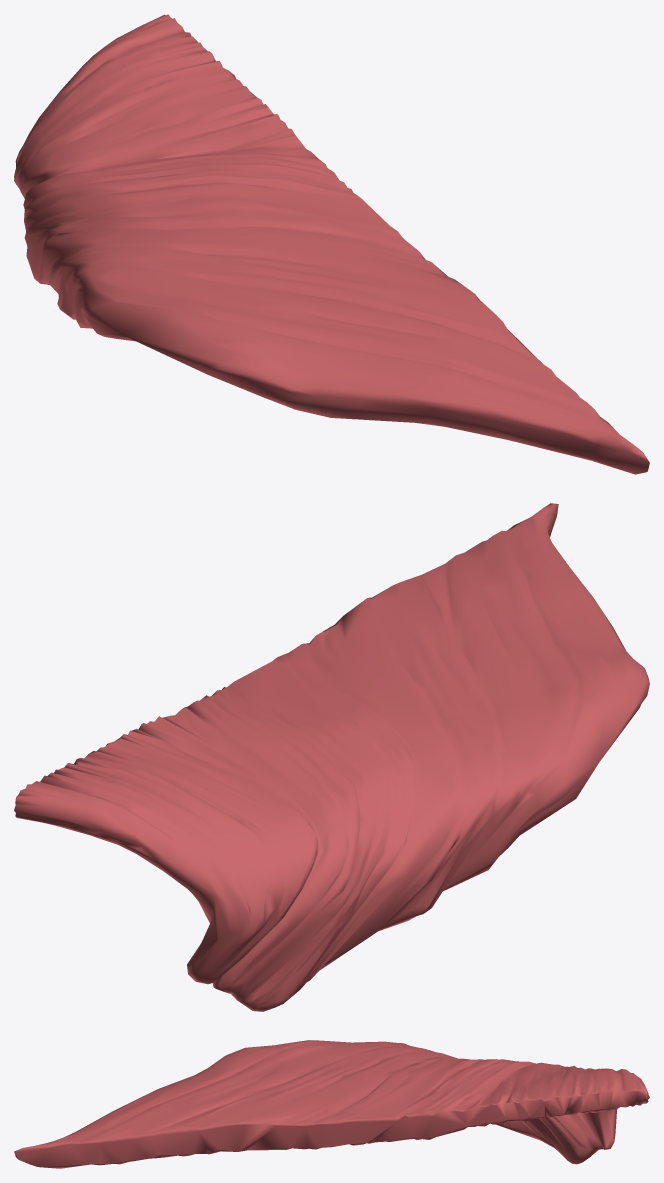
The picture shows the model from 3 angles, top to bottom: view 1: azimuth 30°, elevation 25°; view 2: azimuth 150°, elevation 25°; view 3: azimuth 270°, elevation 25°; orthographic projection. The views are drawn at different scales.
Parts seen in each view (by area): view 1: 右侧咽下缩肌; view 2: 右侧咽下缩肌; view 3: 右侧咽下缩肌.
Boxes of the visible parts, x1,y1,x2,y2 form: 右侧咽下缩肌: (14,14,649,474); 右侧咽下缩肌: (14,503,649,1011); 右侧咽下缩肌: (14,1040,649,1168).
Bounding box in the file's own units: 0.0325 × 0.0211 × 0.0959.
